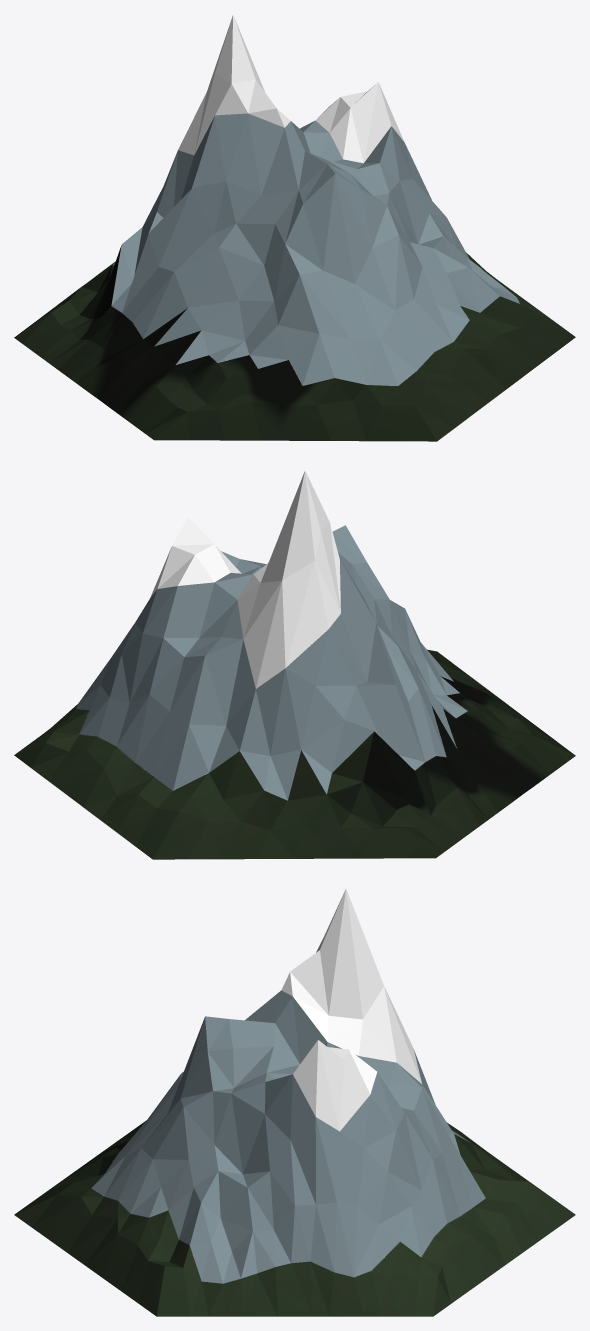
File: mountain_unitless.glb
3 views of the same model, one above another, from view 1: azimuth 30°, elevation 25°; view 2: azimuth 150°, elevation 25°; view 3: azimuth 270°, elevation 25° (orthographic).
Visible parts, largest first — view 1: Plane.066; view 2: Plane.066; view 3: Plane.066.
Boxes of the visible parts, left/top/right/bottom form: Plane.066: left=14, top=14, right=575, bottom=441; Plane.066: left=14, top=471, right=575, bottom=859; Plane.066: left=14, top=888, right=575, bottom=1316.
Size of the model in its own units: 2.45 by 1.74 by 2.86.
3 materials, 1 textured.
